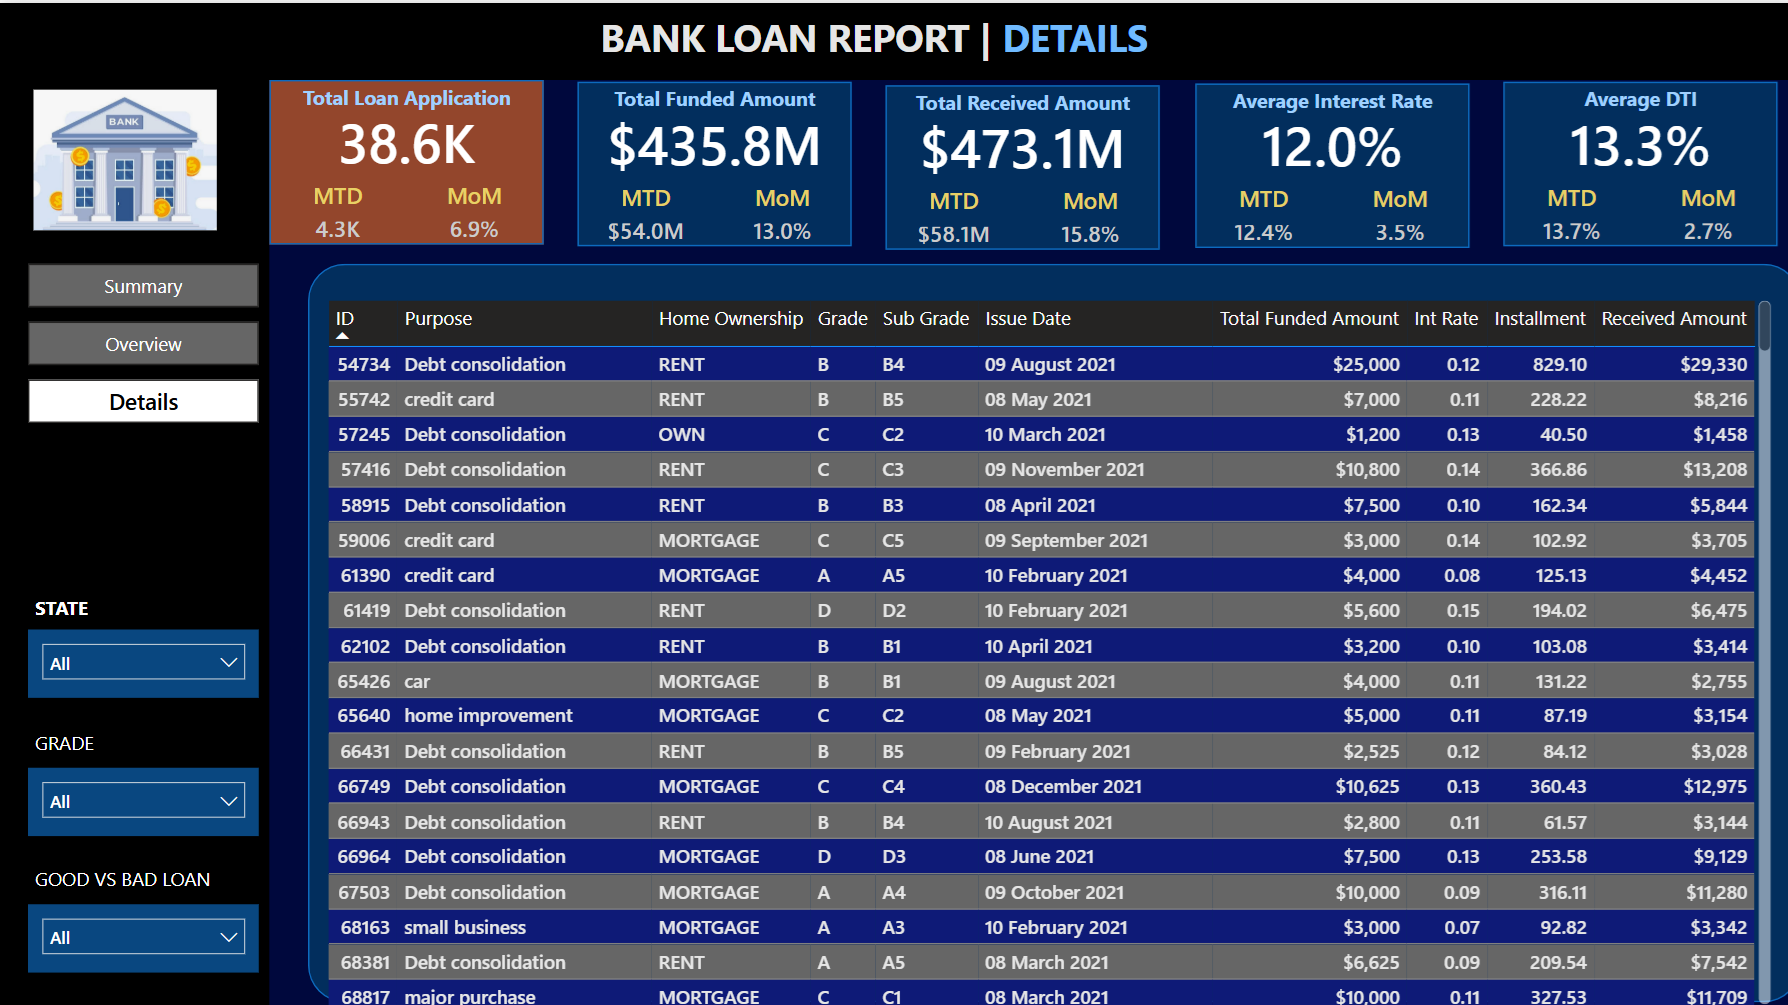

Layout of this report page (visuals, bound fields, positions):
{"tool":"powerbi","page":{"name":"Details","canvas":[1280,720],"ordinal":2},"visuals":[{"type":"shape","box":[0,0,1279.8,54.7],"z":0},{"type":"shape","box":[0,51,191.5,665.4],"z":1000},{"type":"textbox","box":[421.6,1.2,495,51],"z":2000},{"type":"shape","box":[191.5,54.7,195,117],"z":2000,"group":"g1"},{"type":"shape","box":[410.8,56,195,117],"z":2000,"group":"g2"},{"type":"shape","box":[1068.4,56,195,117],"z":2000,"group":"g5"},{"type":"shape","box":[849.2,57.2,195,117],"z":2000,"group":"g4"},{"type":"shape","box":[630,58.5,195,117],"z":2000,"group":"g3"},{"type":"group","id":"g1","title":"Group 1","box":[191.5,52.2,195.3,119.5],"z":3000},{"type":"group","id":"g2","title":"Group 1","box":[410.8,53.5,195.3,119.4],"z":4000},{"type":"card","fields":{"Values":["financial_loan.Total Loan Application"]},"box":[191.5,70.9,195.3,54.7],"z":4000,"group":"g1"},{"type":"card","fields":{"Values":["financial_loan.Total Funded Amount"]},"box":[410.8,72.2,195.3,54.7],"z":4000,"group":"g2"},{"type":"card","fields":{"Values":["financial_loan.Average DTI"]},"box":[1068.4,72.2,195.3,54.7],"z":4000,"group":"g5"},{"type":"card","fields":{"Values":["financial_loan.Average Interest Rate"]},"box":[849.2,73.4,195.3,54.7],"z":4000,"group":"g4"},{"type":"card","fields":{"Values":["financial_loan.Total Received Amount"]},"box":[630,74.7,195.3,54.7],"z":4000,"group":"g3"},{"type":"textbox","box":[191.5,52.2,195.3,36.1],"z":5000,"group":"g1"},{"type":"textbox","box":[410.8,53.5,195.3,36.1],"z":5000,"group":"g2"},{"type":"textbox","box":[1068.4,53.5,195.3,36.1],"z":5000,"group":"g5"},{"type":"textbox","box":[849.2,54.7,195.3,36.1],"z":5000,"group":"g4"},{"type":"group","id":"g3","title":"Group 1","box":[630,56,195.3,119.4],"z":5000},{"type":"textbox","box":[630,56,195.3,36.1],"z":5000,"group":"g3"},{"type":"group","id":"g4","title":"Group 1","box":[849.2,54.7,195.3,119.4],"z":6000},{"type":"card","title":"MTD","fields":{"Values":["financial_loan.MTD Loan Application"]},"box":[202.7,125.6,74.6,44.8],"z":6000,"group":"g1"},{"type":"card","title":"MTD","fields":{"Values":["financial_loan.MTD Funded Amount"]},"box":[422,126.9,74.6,44.8],"z":6000,"group":"g2"},{"type":"card","title":"MTD","fields":{"Values":["financial_loan.MTD Avg DTI"]},"box":[1079.6,126.9,74.6,44.8],"z":6000,"group":"g5"},{"type":"card","title":"MTD","fields":{"Values":["financial_loan.MTD Avg Interest"]},"box":[860.4,128.1,74.6,44.8],"z":6000,"group":"g4"},{"type":"card","title":"MTD","fields":{"Values":["financial_loan.MTD Received Amount"]},"box":[641.2,129.4,74.6,44.8],"z":6000,"group":"g3"},{"type":"group","id":"g5","title":"Group 1","box":[1068.4,53.5,195.3,119.4],"z":7000},{"type":"card","title":"MoM","fields":{"Values":["financial_loan.MoM Loan Application"]},"box":[299.7,125.6,74.6,44.8],"z":7000,"group":"g1"},{"type":"card","title":"MoM","fields":{"Values":["financial_loan.MoM Funded Amount"]},"box":[519,126.9,74.6,44.8],"z":7000,"group":"g2"},{"type":"card","title":"MoM","fields":{"Values":["financial_loan.MoM Avg DTI"]},"box":[1176.6,126.9,74.6,44.8],"z":7000,"group":"g5"},{"type":"card","title":"MoM","fields":{"Values":["financial_loan.MoM Avg Interest Rate"]},"box":[957.4,128.1,74.6,44.8],"z":7000,"group":"g4"},{"type":"card","title":"MoM","fields":{"Values":["financial_loan.MoM Received Amount"]},"box":[738.2,129.4,74.6,44.8],"z":7000,"group":"g3"},{"type":"slicer","fields":{"Values":["financial_loan.address_state"]},"box":[20.1,444.9,164.2,48.5],"z":8000},{"type":"textbox","box":[20.1,415.1,164.2,32.3],"z":9000},{"type":"slicer","fields":{"Values":["financial_loan.grade"]},"box":[20.1,543.2,164.2,48.5],"z":10000},{"type":"slicer","fields":{"Values":["financial_loan.Good vs Bad Loan"]},"box":[20.1,640.2,164.2,48.5],"z":11000},{"type":"textbox","box":[20.1,510.8,164.2,32.3],"z":12000},{"type":"textbox","box":[20.1,607.8,164.2,32.3],"z":13000},{"type":"shape","box":[218.9,185.3,1060.9,524.9],"z":16000},{"type":"tableEx","fields":{"Values":["financial_loan.id","financial_loan.purpose","financial_loan.home_ownership","financial_loan.grade","financial_loan.sub_grade","financial_loan.issue_date","financial_loan.Total Funded Amount","Sum(financial_loan.int_rate)","Sum(financial_loan.installment)","financial_loan.Total Received Amount"]},"box":[227.6,206.5,1036,509.9],"z":17000},{"type":"image","box":[18.7,54.7,140.5,113.2],"z":18000},{"type":"pageNavigator","box":[19.9,185.3,164.2,115.7],"z":19000}]}

Visuals, with their boxes in screenshot pixels (x1, y1, x2, y2), scaled from the page's 1280x720 canvas onto the 1788x1005 screenshot:
shape: x1=0 y1=0 x2=1787 y2=76
shape: x1=0 y1=71 x2=268 y2=1000
textbox: x1=589 y1=2 x2=1280 y2=73
shape: x1=268 y1=76 x2=540 y2=240
shape: x1=574 y1=78 x2=846 y2=241
shape: x1=1492 y1=78 x2=1765 y2=241
shape: x1=1186 y1=80 x2=1459 y2=243
shape: x1=880 y1=82 x2=1152 y2=245
"Group 1" group: x1=268 y1=73 x2=540 y2=240
"Group 1" group: x1=574 y1=75 x2=847 y2=241
card - financial_loan.Total Loan Application: x1=268 y1=99 x2=540 y2=175
card - financial_loan.Total Funded Amount: x1=574 y1=101 x2=847 y2=177
card - financial_loan.Average DTI: x1=1492 y1=101 x2=1765 y2=177
card - financial_loan.Average Interest Rate: x1=1186 y1=102 x2=1459 y2=179
card - financial_loan.Total Received Amount: x1=880 y1=104 x2=1153 y2=181
textbox: x1=268 y1=73 x2=540 y2=123
textbox: x1=574 y1=75 x2=847 y2=125
textbox: x1=1492 y1=75 x2=1765 y2=125
textbox: x1=1186 y1=76 x2=1459 y2=127
"Group 1" group: x1=880 y1=78 x2=1153 y2=245
textbox: x1=880 y1=78 x2=1153 y2=129
"Group 1" group: x1=1186 y1=76 x2=1459 y2=243
"MTD" card: x1=283 y1=175 x2=387 y2=238
"MTD" card: x1=589 y1=177 x2=694 y2=240
"MTD" card: x1=1508 y1=177 x2=1612 y2=240
"MTD" card: x1=1202 y1=179 x2=1306 y2=241
"MTD" card: x1=896 y1=181 x2=1000 y2=243
"Group 1" group: x1=1492 y1=75 x2=1765 y2=241
"MoM" card: x1=419 y1=175 x2=523 y2=238
"MoM" card: x1=725 y1=177 x2=829 y2=240
"MoM" card: x1=1644 y1=177 x2=1748 y2=240
"MoM" card: x1=1337 y1=179 x2=1442 y2=241
"MoM" card: x1=1031 y1=181 x2=1135 y2=243
slicer - financial_loan.address_state: x1=28 y1=621 x2=257 y2=689
textbox: x1=28 y1=579 x2=257 y2=624
slicer - financial_loan.grade: x1=28 y1=758 x2=257 y2=826
slicer - financial_loan.Good vs Bad Loan: x1=28 y1=894 x2=257 y2=961
textbox: x1=28 y1=713 x2=257 y2=758
textbox: x1=28 y1=848 x2=257 y2=893
shape: x1=306 y1=259 x2=1787 y2=991
tableEx - financial_loan.id x financial_loan.purpose: x1=318 y1=288 x2=1765 y2=1000
image: x1=26 y1=76 x2=222 y2=234
pageNavigator: x1=28 y1=259 x2=257 y2=420
